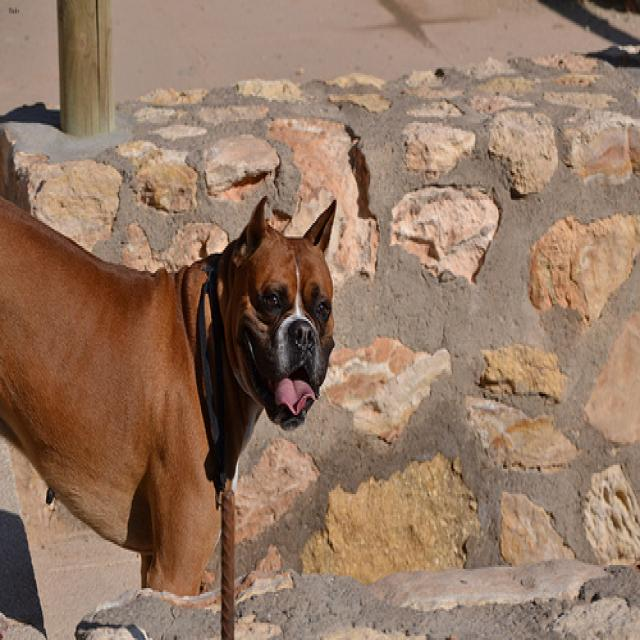dog-boxer: (1, 181, 343, 603)
